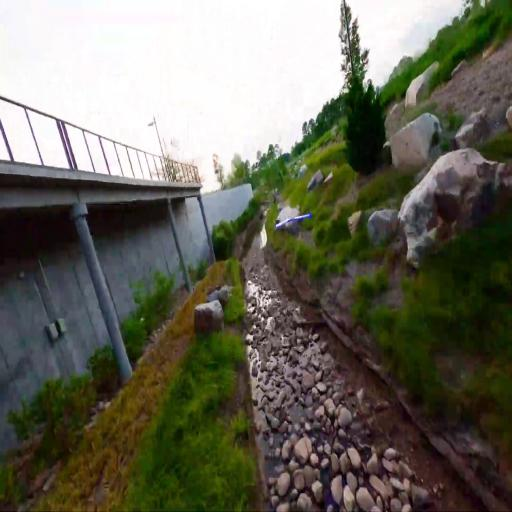uav: (274, 211, 312, 230)
